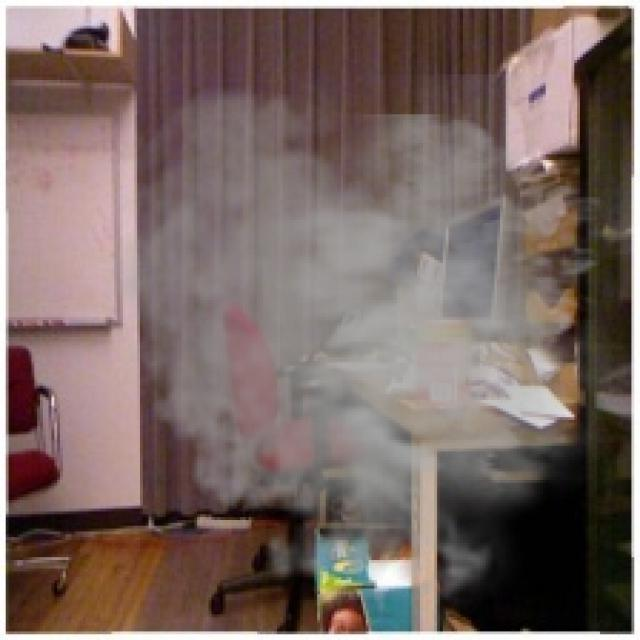smoke: (92, 74, 637, 620)
